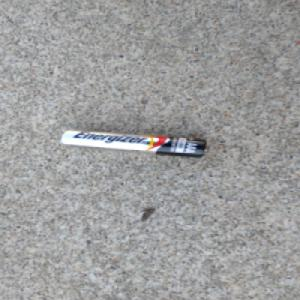Battery: (57, 128, 210, 159)
